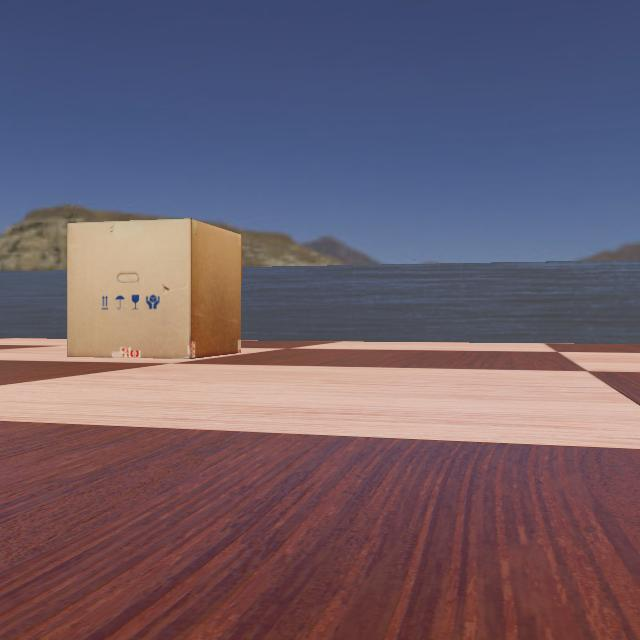cardboard-box: (54, 218, 244, 358)
